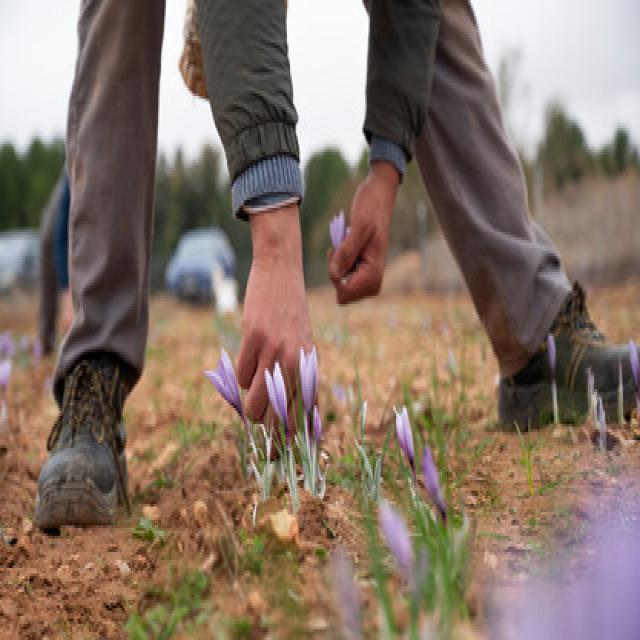saffron open: (205, 348, 252, 442), (299, 345, 318, 419)
